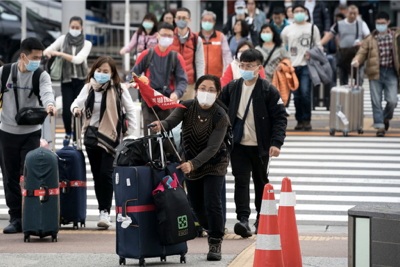mask_weared_incorrect: (274, 15, 284, 27)
with_mask: (197, 84, 218, 107), (239, 62, 257, 81), (25, 54, 43, 72), (94, 68, 111, 84), (158, 31, 174, 48), (175, 15, 190, 30), (201, 18, 215, 32), (236, 49, 250, 63), (69, 25, 82, 38), (142, 18, 155, 30), (294, 9, 306, 22), (376, 21, 388, 33), (260, 31, 273, 42), (235, 7, 245, 16), (305, 12, 310, 21)
without_mask: (347, 11, 359, 21), (247, 2, 257, 12), (233, 22, 242, 33), (164, 17, 174, 25), (287, 10, 295, 19)
